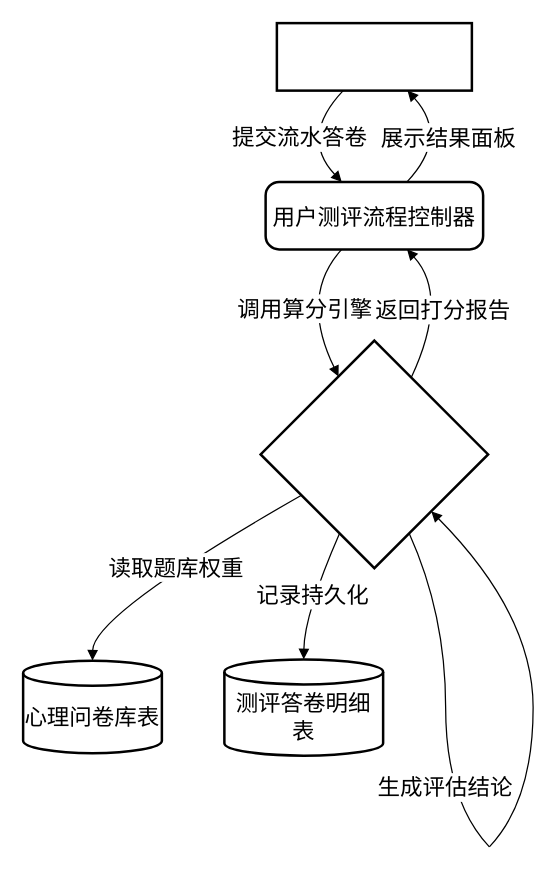
This 555x869 diagram has some shape labels left out. Each missing label, with the centre of its shape:
前端测试界面: (373,56)
测评算分核算引擎: (374,454)
